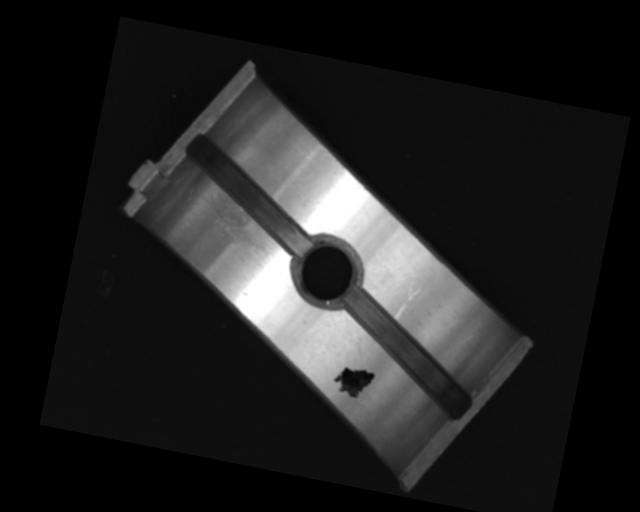blot: (330, 364, 375, 401)
gap: (329, 285, 487, 420), (168, 131, 327, 254)
hole: (286, 229, 367, 313)
nick: (392, 278, 423, 325)
scratch: (191, 185, 278, 256)
